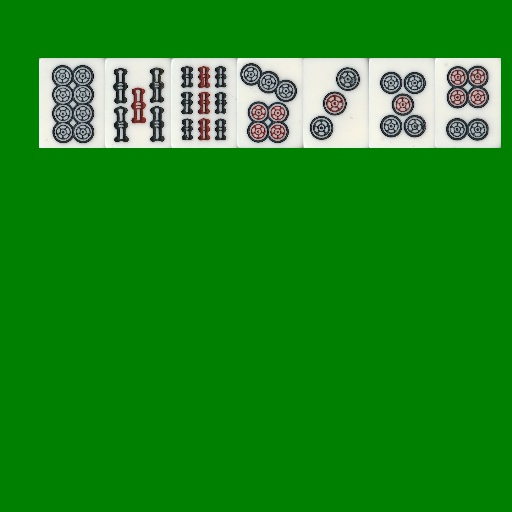3p: (303, 58, 369, 148)
5p: (369, 58, 435, 148)
5s: (105, 58, 171, 148)
6p: (435, 58, 501, 148)
7p: (237, 58, 303, 148)
8p: (39, 58, 105, 148)
9s: (171, 58, 237, 148)
